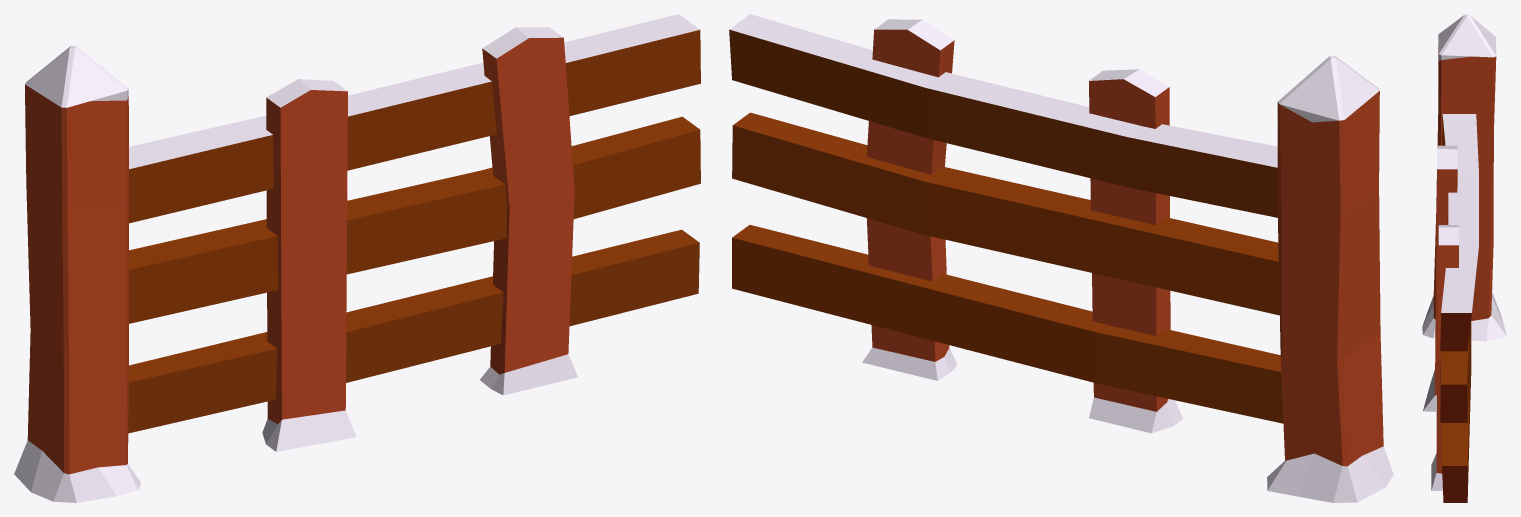
The model's file is lowbar-snow-1.glb.
3 renders of one model, left to right at view 1: azimuth 30°, elevation 25°; view 2: azimuth 150°, elevation 25°; view 3: azimuth 270°, elevation 25°, orthographic. The views are drawn at different scales.
Parts seen in each view (by area): view 1: piece; view 2: piece; view 3: piece.
Boxes of the visible parts, x1,y1,x2,y2 form: piece: [14, 14, 700, 502]; piece: [729, 14, 1393, 502]; piece: [1422, 14, 1506, 502].
Size of the model in its own units: 1.18 by 0.7389 by 0.1841.
1 material, 1 textured.
